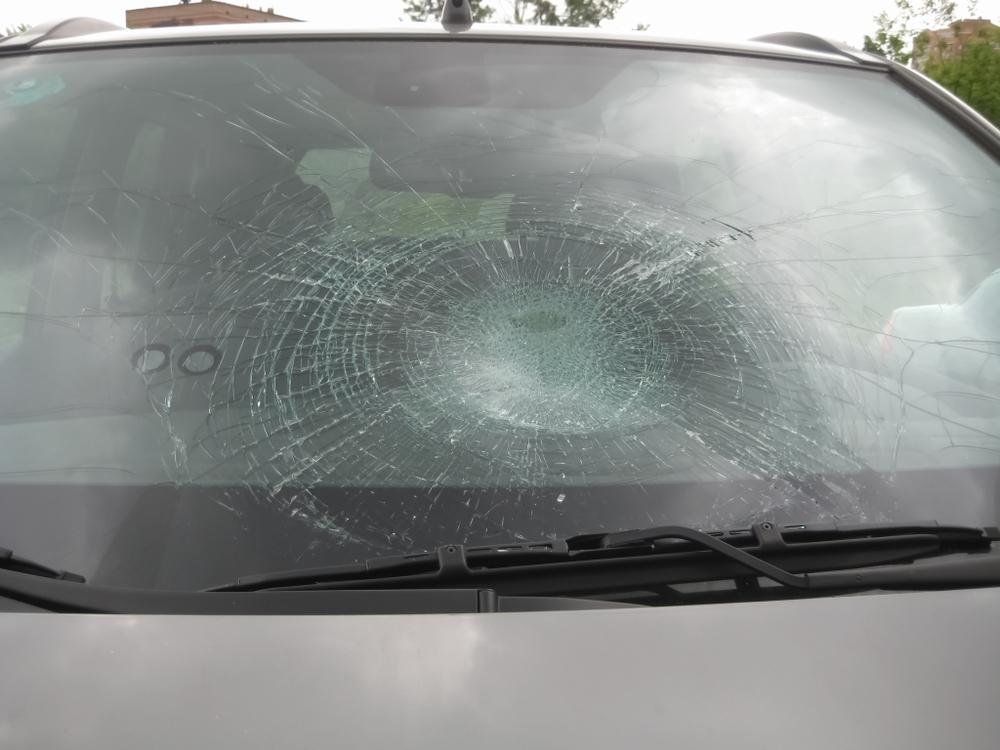glass shatter: (0, 41, 1000, 590)
